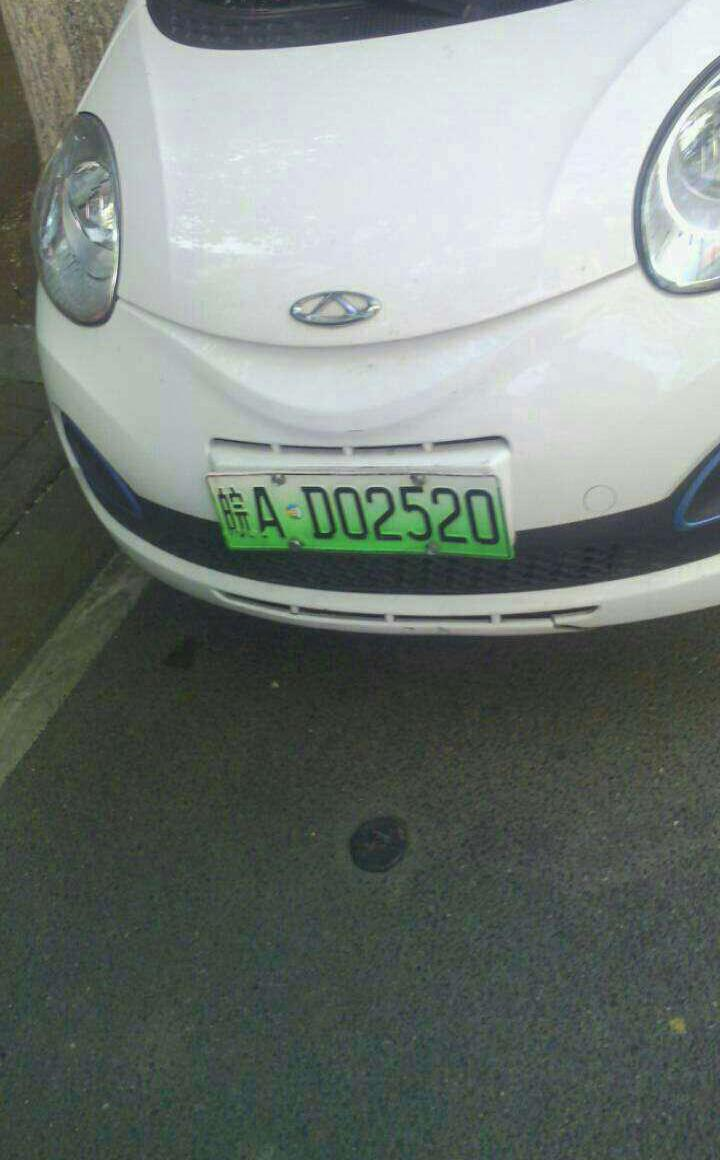car_id: (206, 472, 512, 558)
